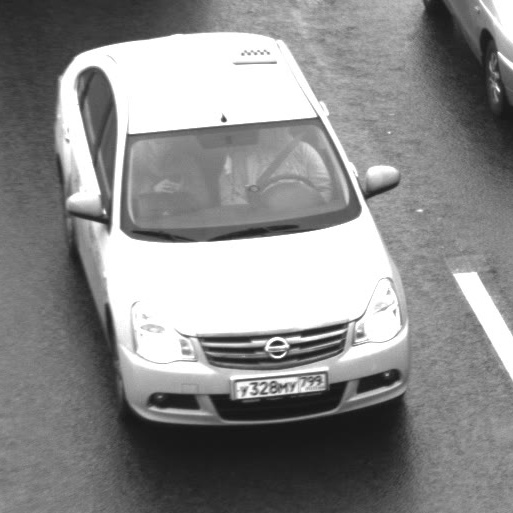plate: (223, 363, 336, 404)
